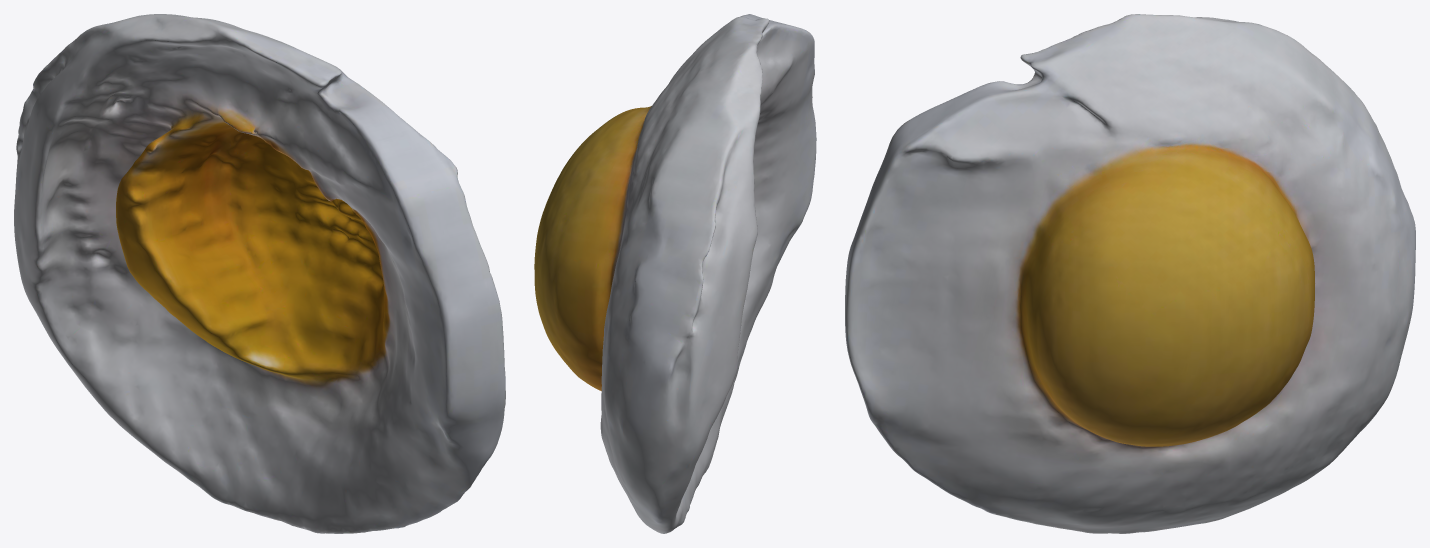
The model's file is EggSlice.fbx.
3 renders of one model, left to right at view 1: azimuth 30°, elevation 25°; view 2: azimuth 150°, elevation 25°; view 3: azimuth 270°, elevation 25°, orthographic. The views are drawn at different scales.
Visible parts, largest first — view 1: high_poly; view 2: high_poly; view 3: high_poly.
Boxes of the visible parts, box(x1,y1,x2,y2) form: high_poly: box(14, 14, 505, 533); high_poly: box(534, 14, 816, 533); high_poly: box(845, 14, 1415, 533).
Size of the model in its own units: 58.38 by 94.62 by 100.
